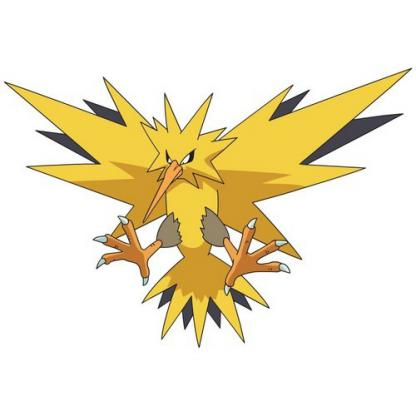Zapdos: (1, 48, 416, 346)
